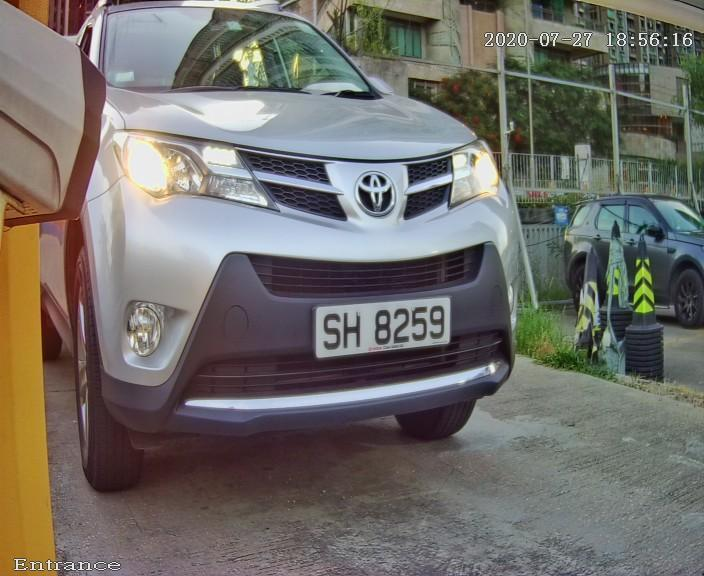privatecar: (47, 1, 562, 474)
